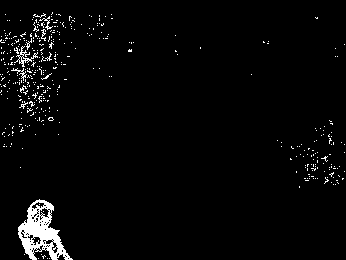person: (17, 199, 72, 260)
